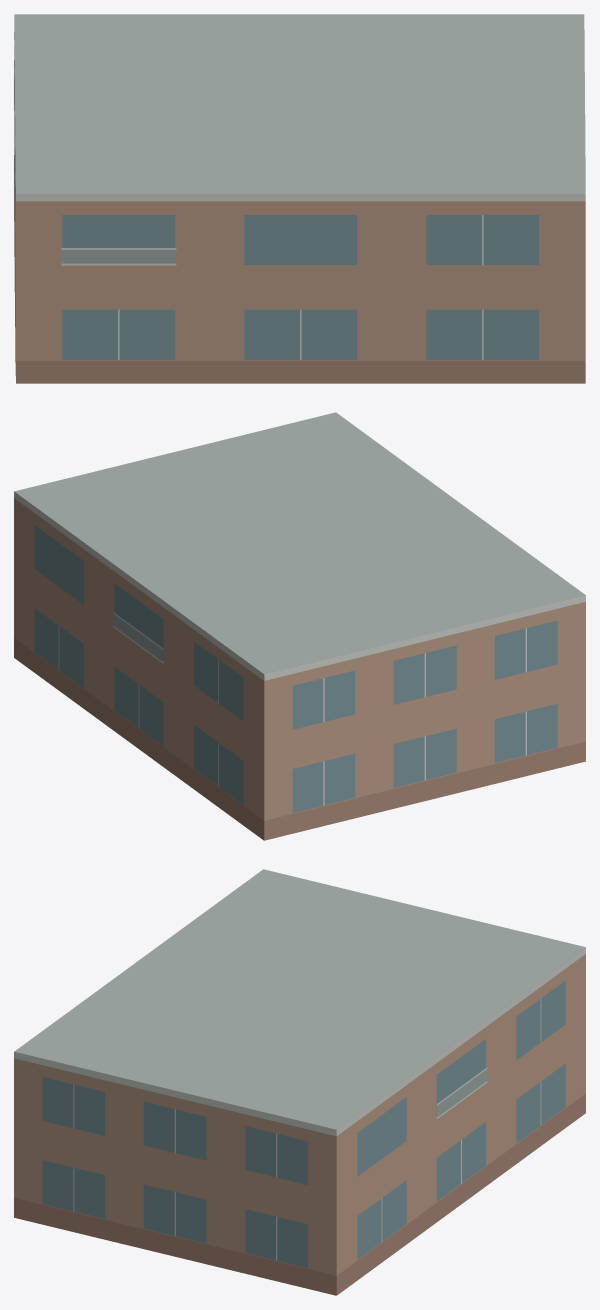
Rendered from survey-upis-32760445.glb.
3 views of the same model, one above another, from view 1: azimuth 30°, elevation 25°; view 2: azimuth 150°, elevation 25°; view 3: azimuth 270°, elevation 25° (orthographic). The views are drawn at different scales.
Visible parts, largest first — view 1: survey-upis-32760445.tmp; view 2: survey-upis-32760445.tmp; view 3: survey-upis-32760445.tmp.
Part boxes in pixels (x1=…): survey-upis-32760445.tmp: x1=14, y1=14, x2=585, y2=383; survey-upis-32760445.tmp: x1=14, y1=412, x2=585, y2=840; survey-upis-32760445.tmp: x1=14, y1=869, x2=585, y2=1295.
Size of the model in its own units: 20.54 by 6.1 by 19.05.
